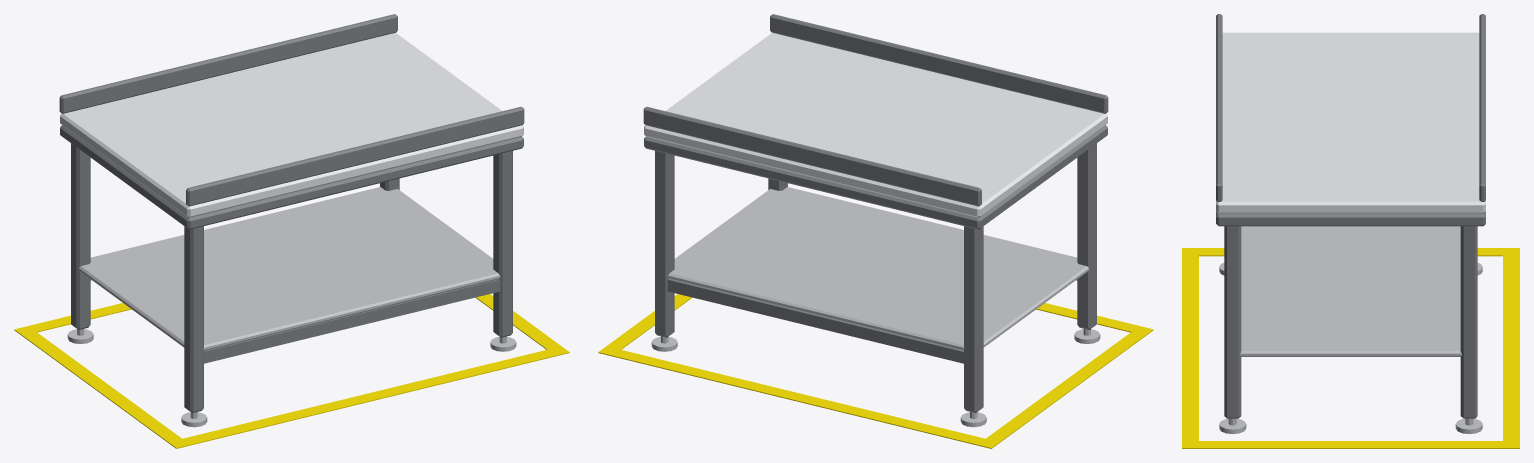
The model's file is espera_medio.glb.
3 views of the same model, side by side, from view 1: azimuth 30°, elevation 25°; view 2: azimuth 150°, elevation 25°; view 3: azimuth 270°, elevation 25° (orthographic). The views are drawn at different scales.
Parts seen in each view (by area): view 1: estrutura, faixa; view 2: estrutura, faixa; view 3: estrutura, faixa.
Part boxes in pixels (<box>): estrutura: <box>59,14,524,427</box>; faixa: <box>14,294,569,448</box>; estrutura: <box>643,14,1108,427</box>; faixa: <box>598,294,1153,448</box>; estrutura: <box>1216,14,1485,434</box>; faixa: <box>1182,248,1519,448</box>.
Bounding box in the file's own units: 1.4 × 0.82 × 1.
